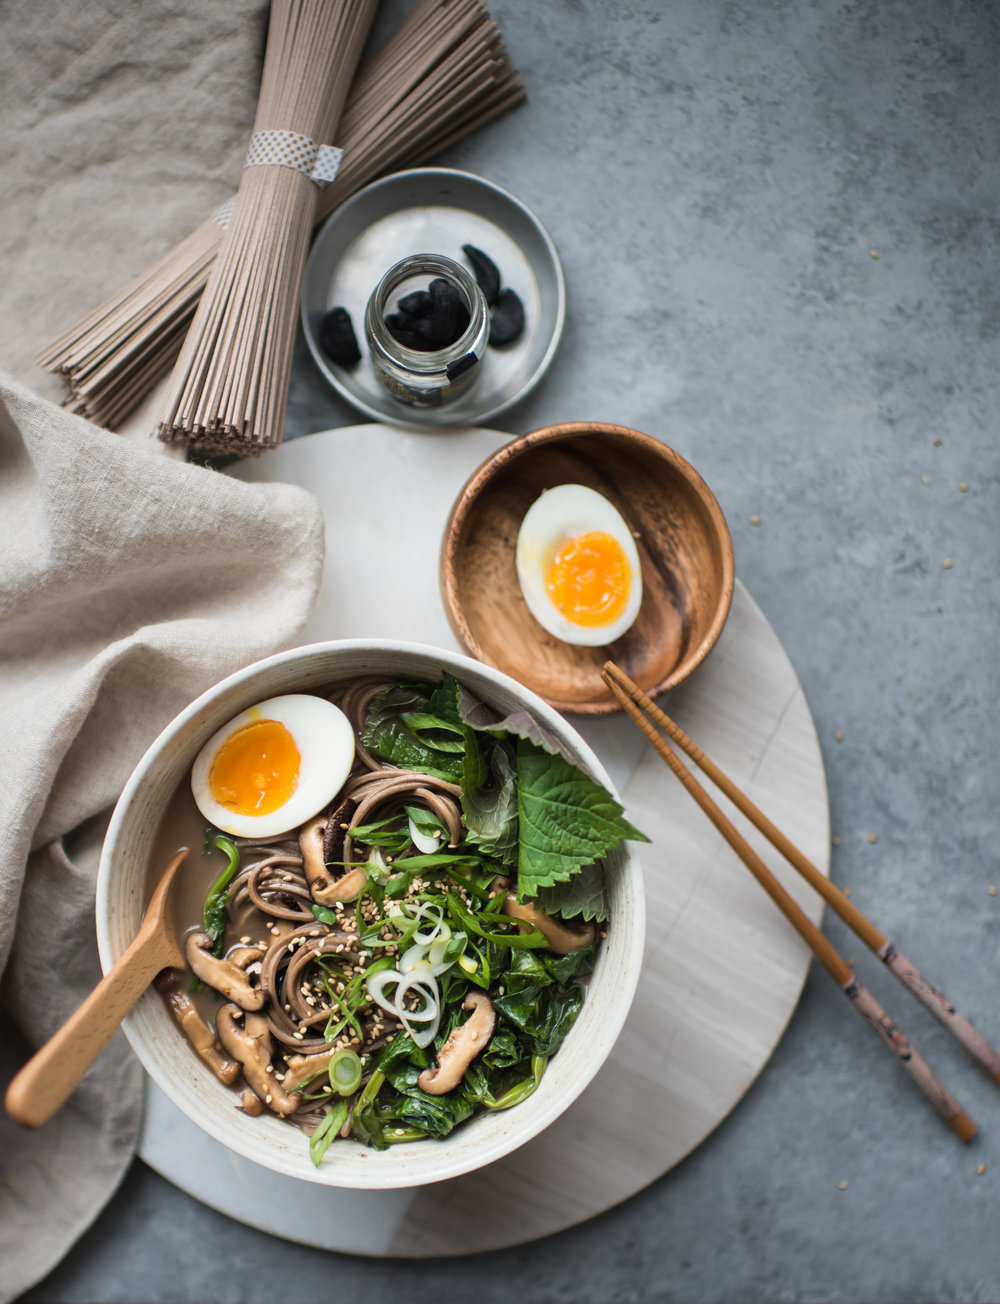Soba: (178, 781, 657, 1164)
